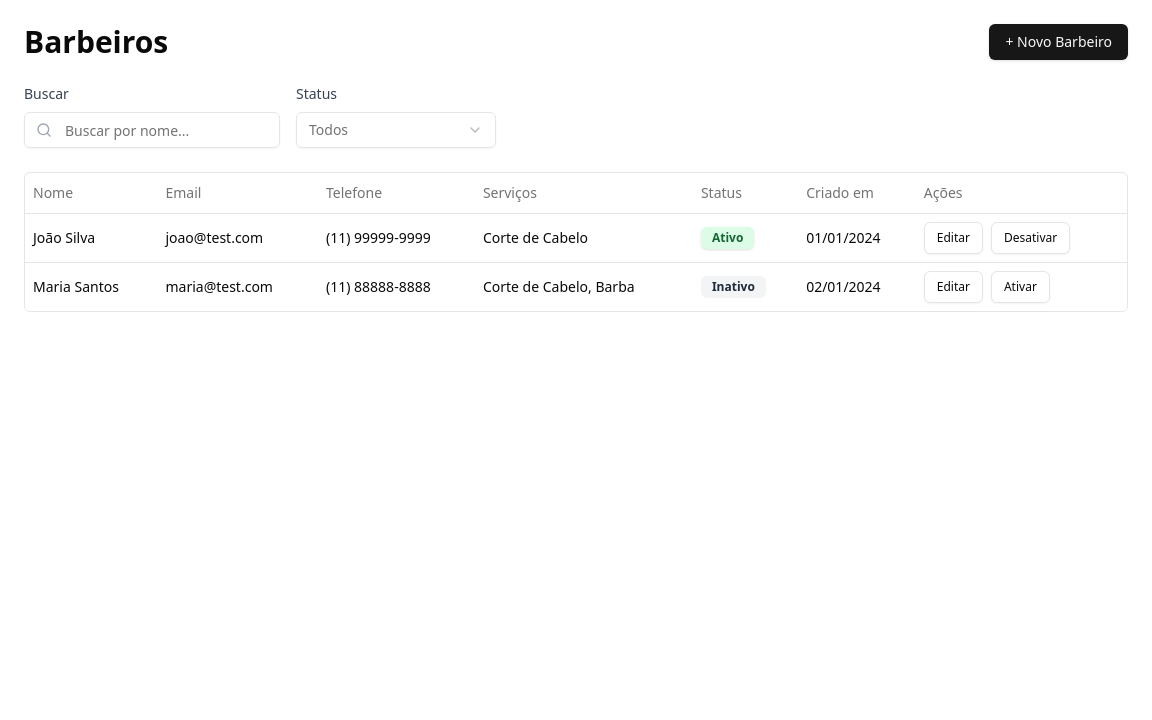
Test: BarbersListPage Integration › opens create barber modal
Expected: the text "João Silva" is shown, [25,213,157,262]
Click create button
Click the button "+ Novo Barbeiro".
click(1059, 42)  # box [990,24,1128,60]
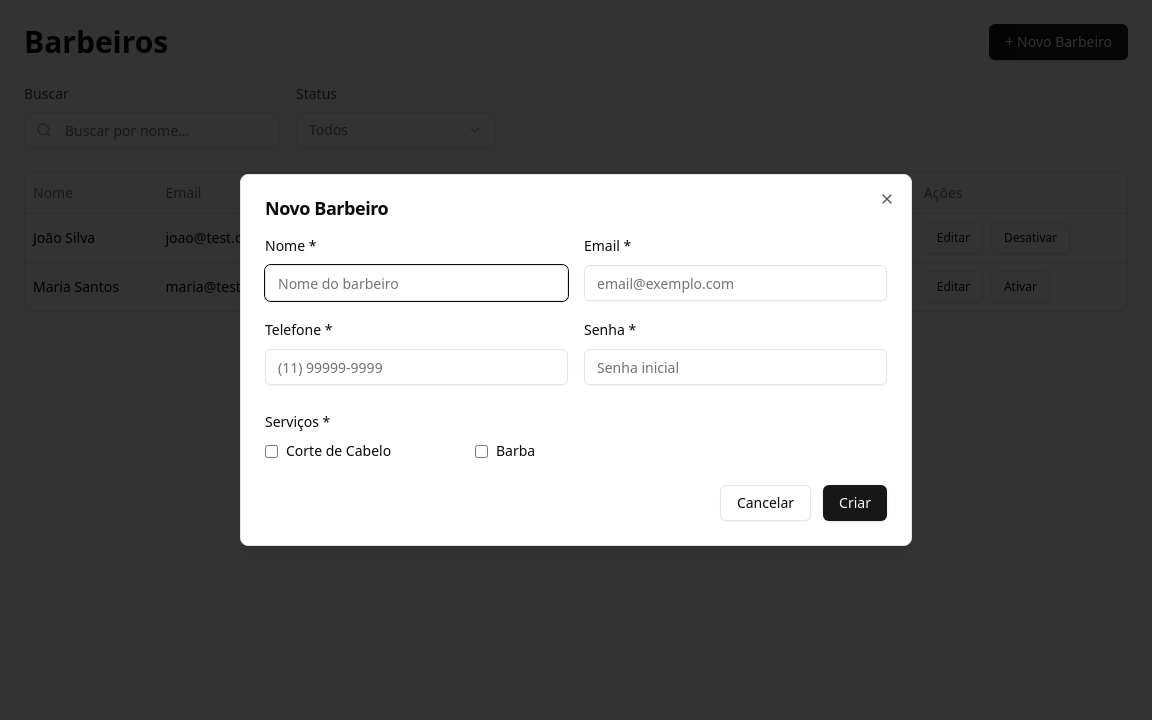
Expected: the heading "Novo Barbeiro" is shown, [265,196,388,220]
